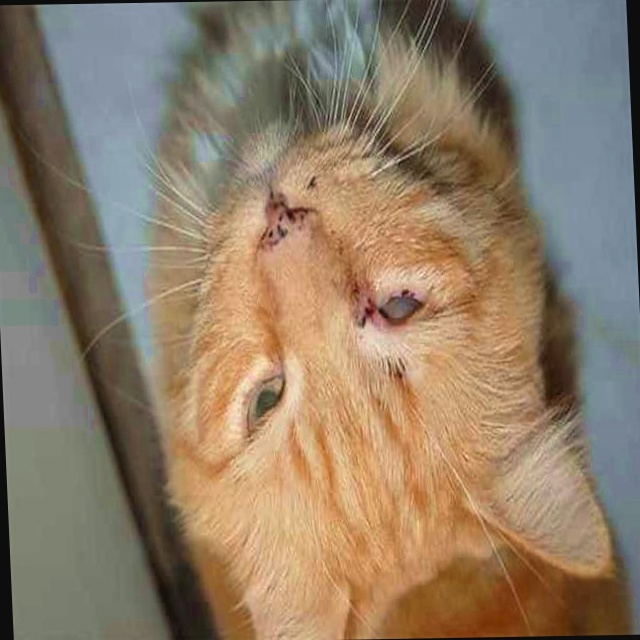eye_infection: (366, 286, 421, 327)
